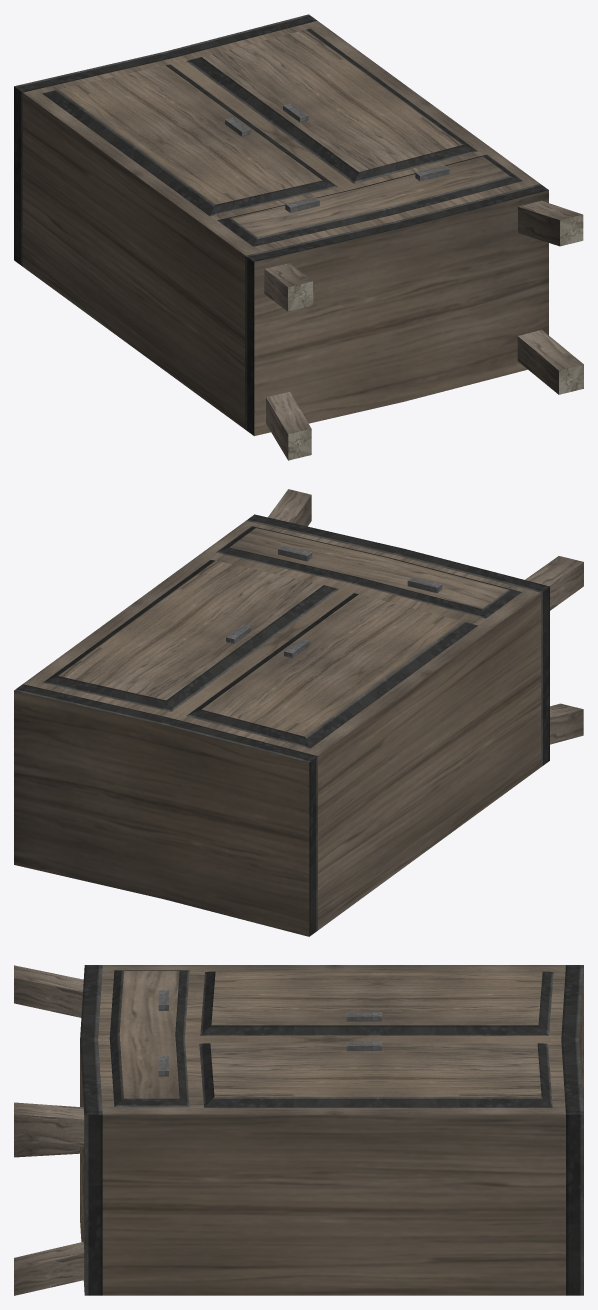
Rendered from Dresser_D.fbx.
3 views of the same model, one above another, from view 1: azimuth 30°, elevation 25°; view 2: azimuth 150°, elevation 25°; view 3: azimuth 270°, elevation 25° (orthographic). The views are drawn at different scales.
Visible parts, largest first — view 1: Dresser_D; view 2: Dresser_D; view 3: Dresser_D.
Boxes of the visible parts, box(x1,y1,x2,y2) form: Dresser_D: box(14, 14, 583, 460); Dresser_D: box(14, 489, 583, 936); Dresser_D: box(14, 965, 583, 1295).
Size of the model in its own units: 2.06 by 1.23 by 3.31.
